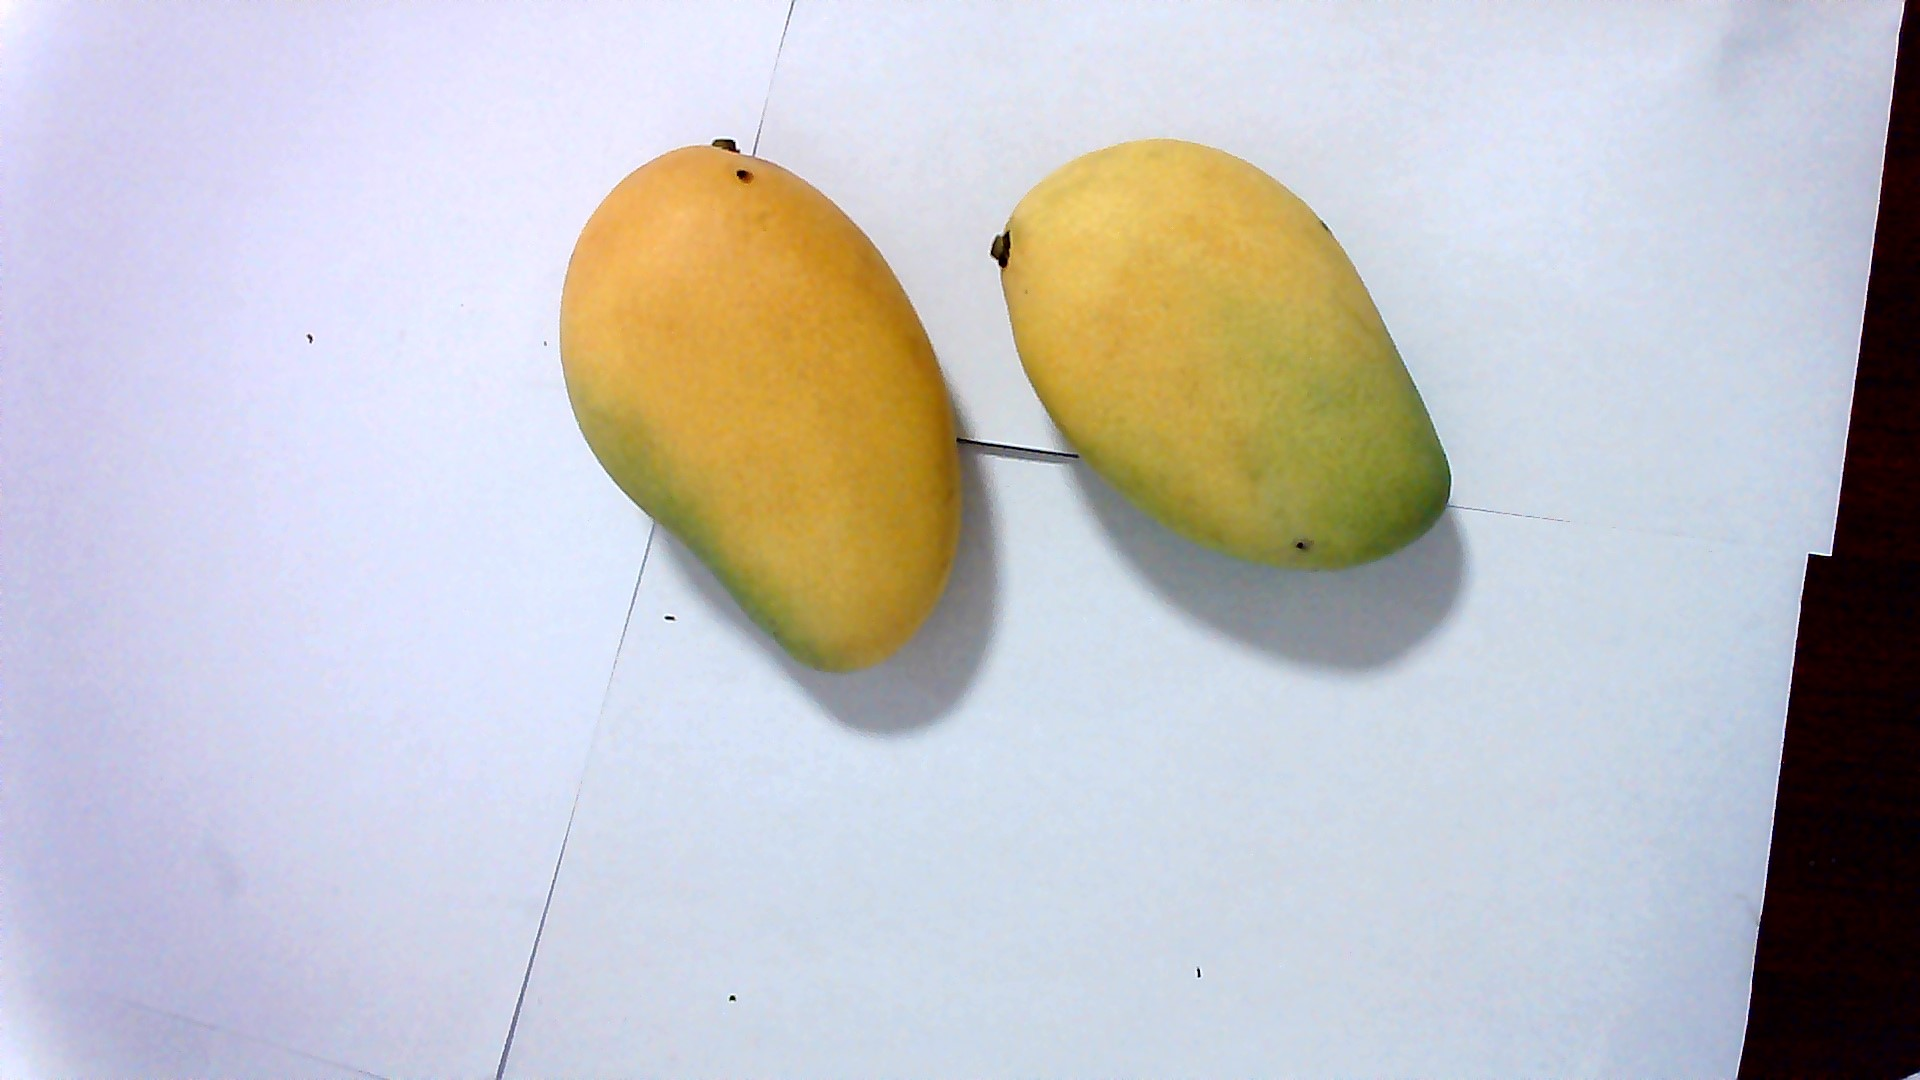mongo: (570, 135, 967, 682), (992, 145, 1451, 572)
